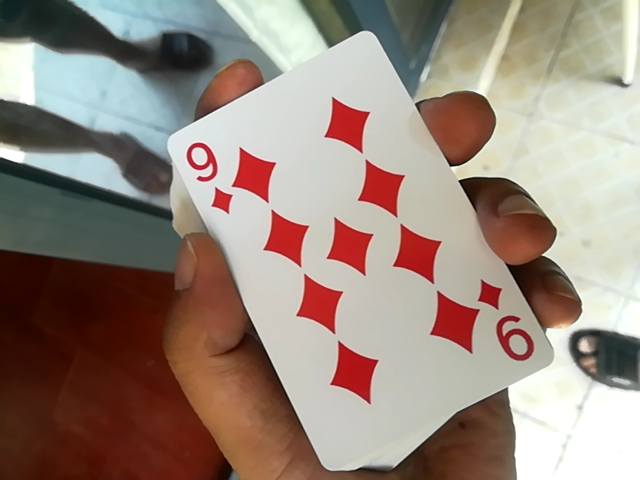fk 9: (174, 20, 528, 475)
